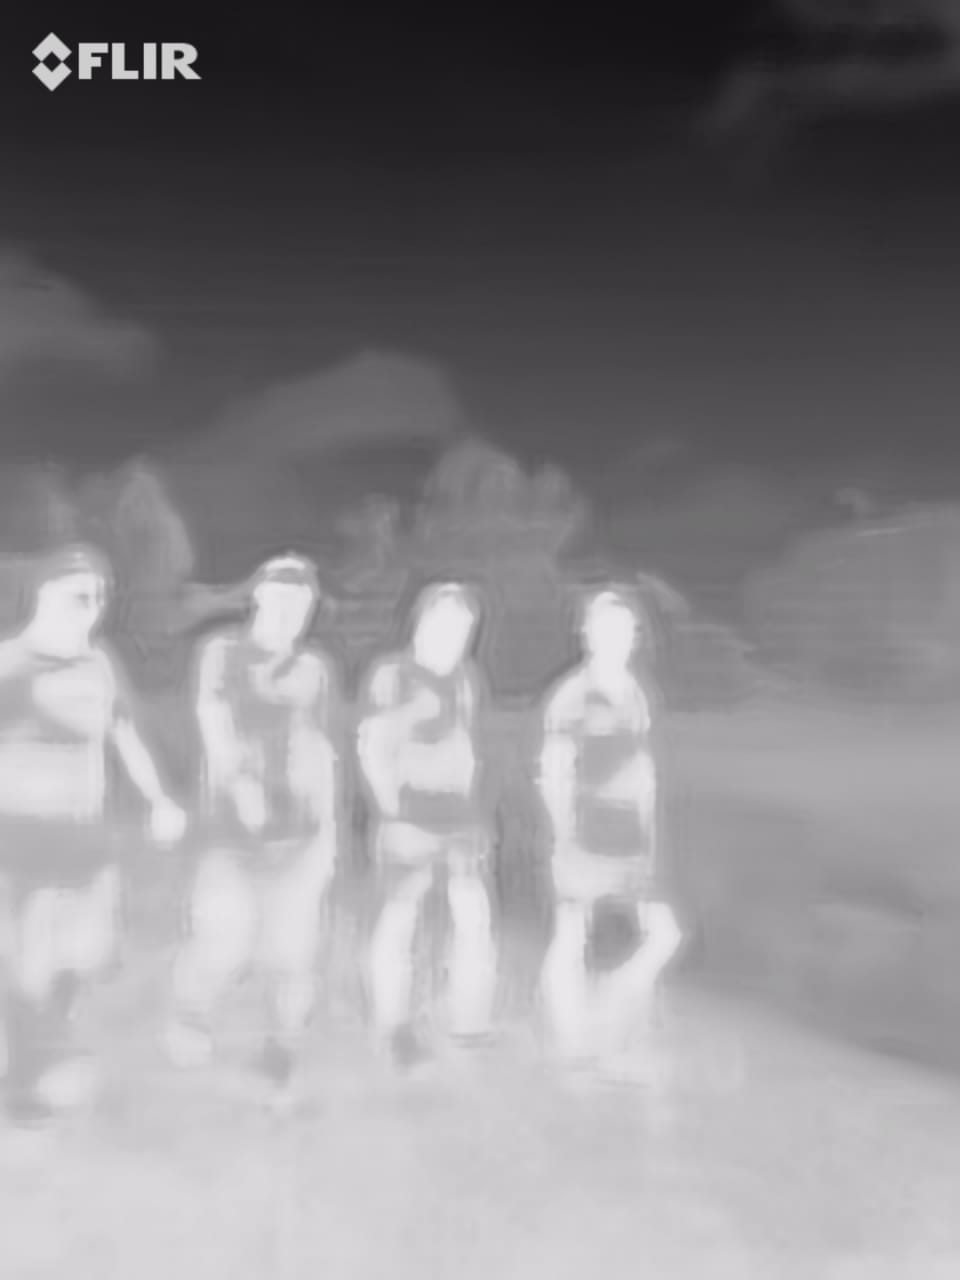head: (26, 538, 119, 652)
